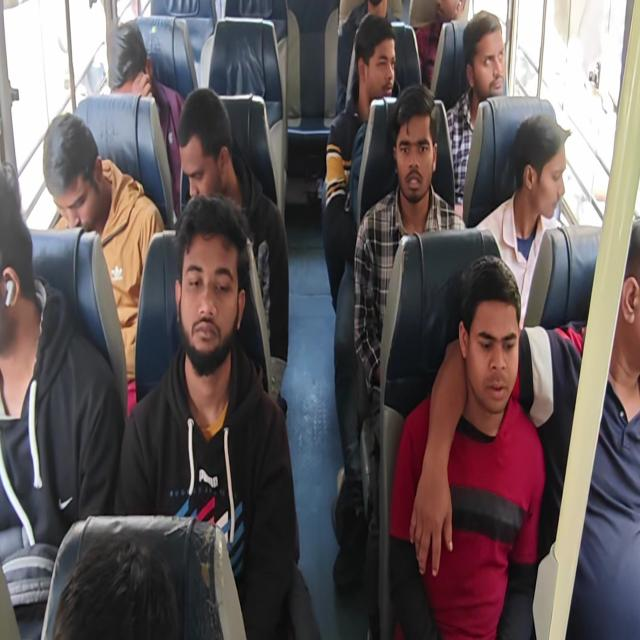person: (46, 524, 196, 640), (171, 199, 250, 375), (451, 246, 521, 412), (0, 151, 51, 376), (44, 106, 111, 241), (171, 87, 237, 203), (388, 82, 442, 214), (109, 14, 170, 115), (514, 110, 566, 224), (346, 8, 396, 106), (464, 8, 515, 102), (610, 217, 640, 375), (427, 0, 463, 22), (363, 0, 388, 23)
